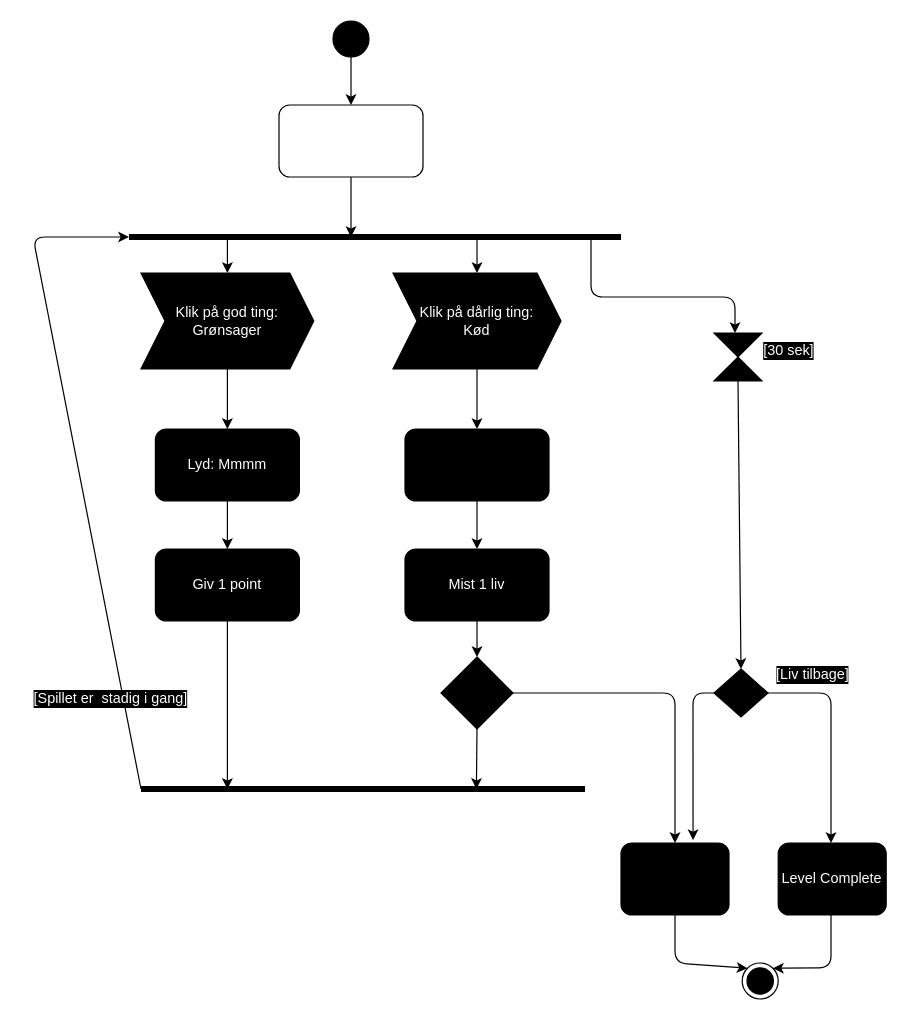
Image size: 907x1020. Some labels were removed from this diagram. Here are the shapes that lost their labels. From the top down, the centre of each, then its label:
At point 350,140: "Grønsager og kød falder ned".
At point 476,464: "Lyd: Pistol".
At point 674,878: "Game Over".
